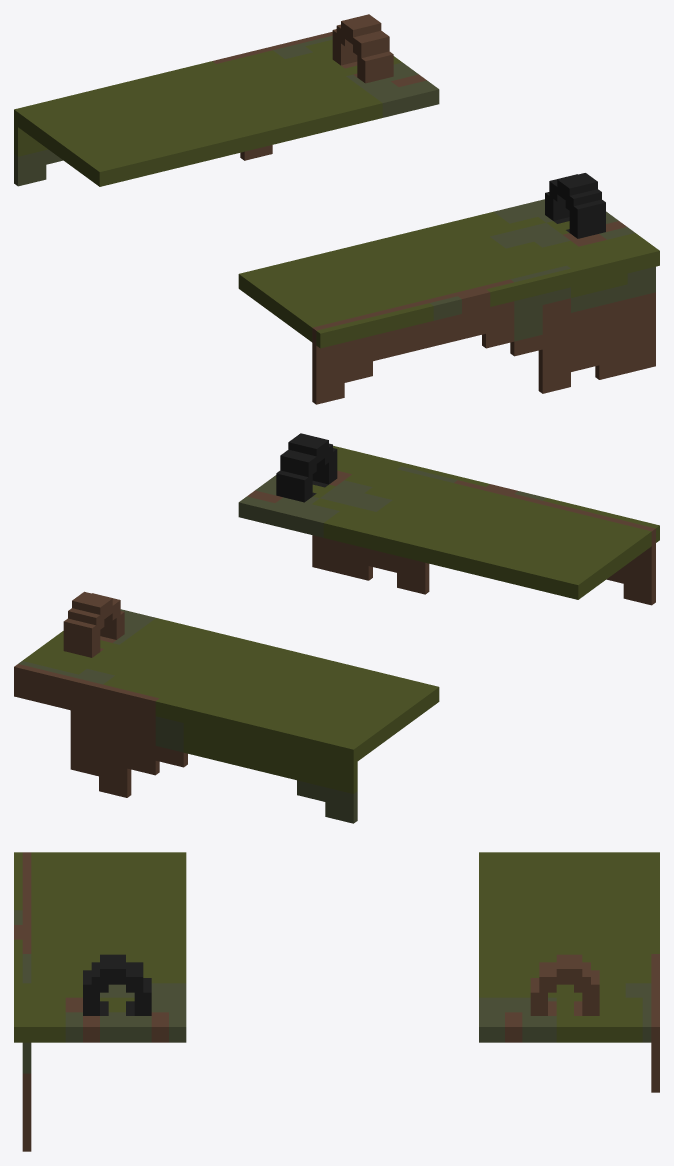
File: abandoned_army_truck_wings.glb
3 renders of one model, top to bottom at view 1: azimuth 30°, elevation 25°; view 2: azimuth 150°, elevation 25°; view 3: azimuth 270°, elevation 25°, orthographic. The views are drawn at different scales.
Parts seen in each view (by area): view 1: body:compound; view 2: body:compound; view 3: body:compound.
Boxes of the visible parts, box(x1,y1,x2,y2) form: body:compound: box(14, 14, 659, 404); body:compound: box(14, 433, 659, 823); body:compound: box(14, 852, 659, 1151).
Bounding box in the file's own units: 1.5 × 0.6875 × 2.34.
